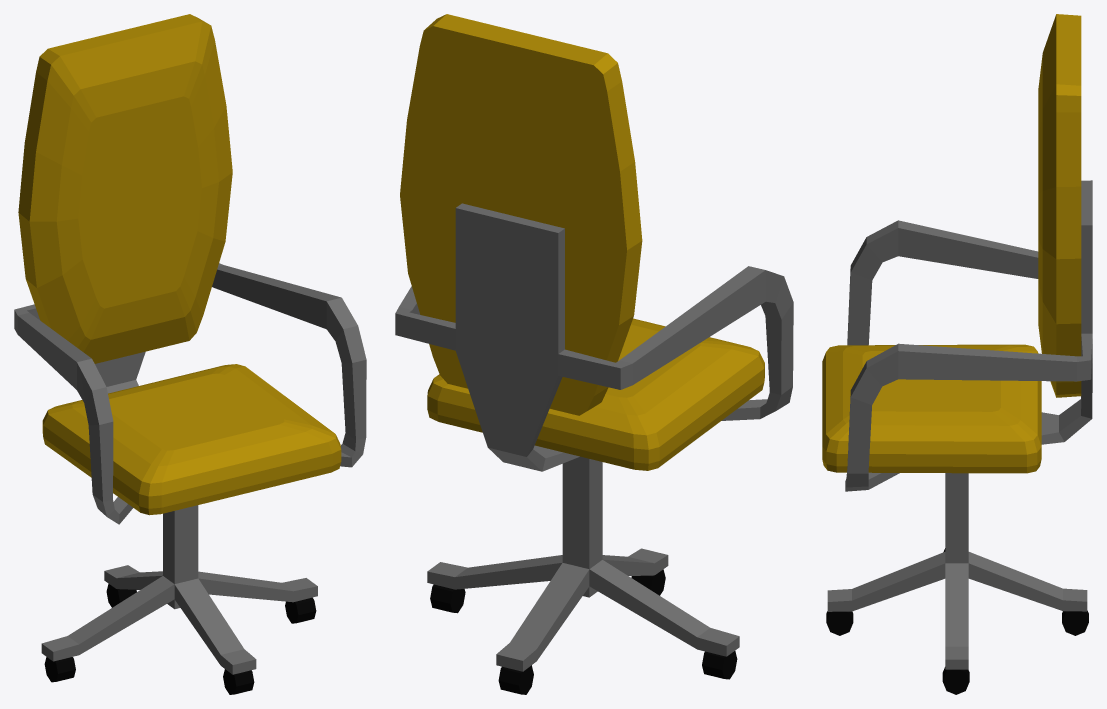
Rendered from P_Chair_2.fbx.
3 views of the same model, side by side, from view 1: azimuth 30°, elevation 25°; view 2: azimuth 150°, elevation 25°; view 3: azimuth 270°, elevation 25° (orthographic). The views are drawn at different scales.
Visible parts, largest first — view 1: P_Chair_2; view 2: P_Chair_2; view 3: P_Chair_2.
Part boxes in pixels (left/top/right/bottom): P_Chair_2: left=14, top=14, right=366, bottom=694; P_Chair_2: left=395, top=14, right=793, bottom=694; P_Chair_2: left=822, top=14, right=1092, bottom=694.
Size of the model in its own units: 376 by 326 by 773.
